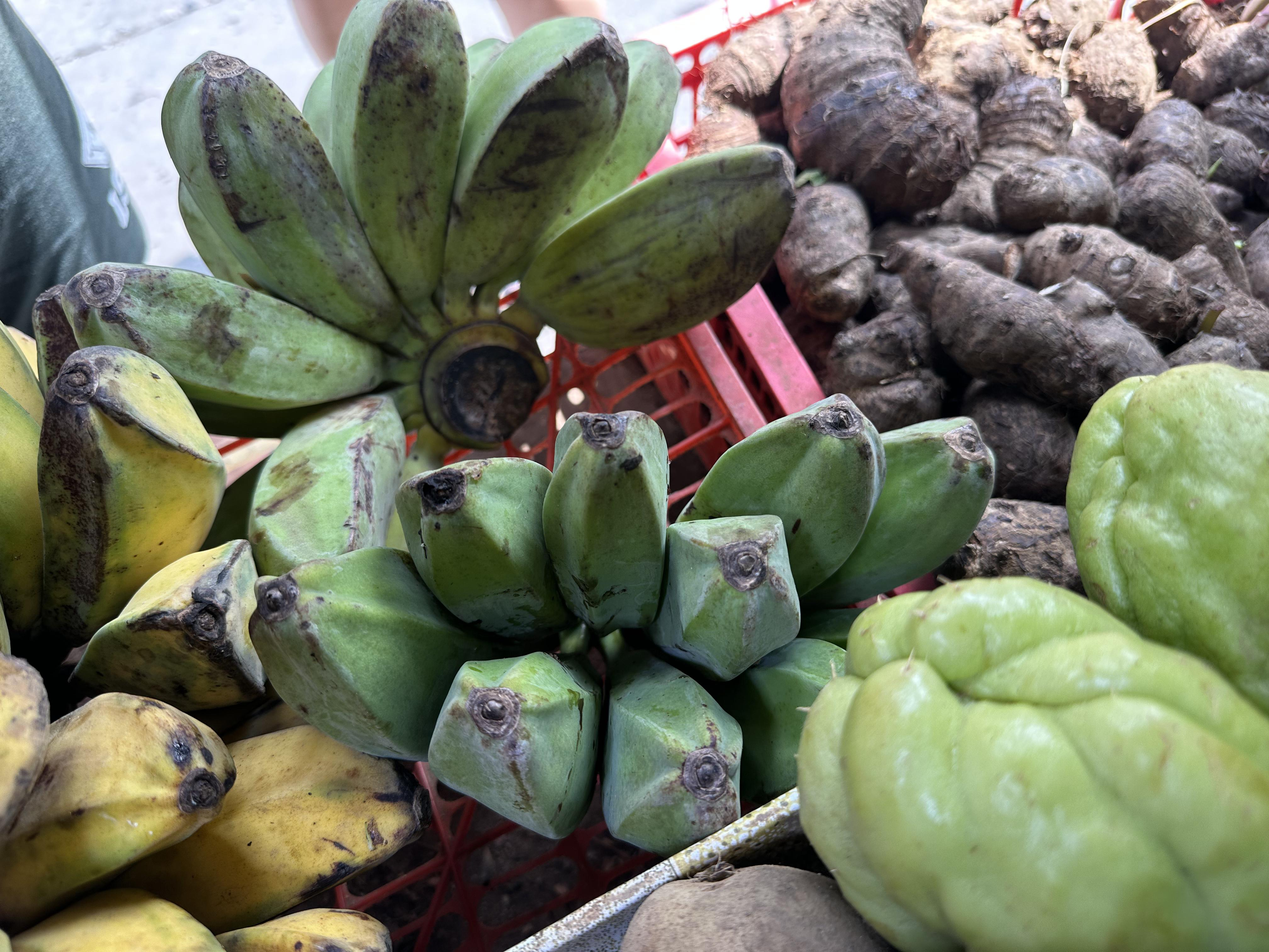underripe: (32, 0, 797, 576), (246, 395, 997, 857), (0, 650, 429, 952), (0, 321, 270, 726)
